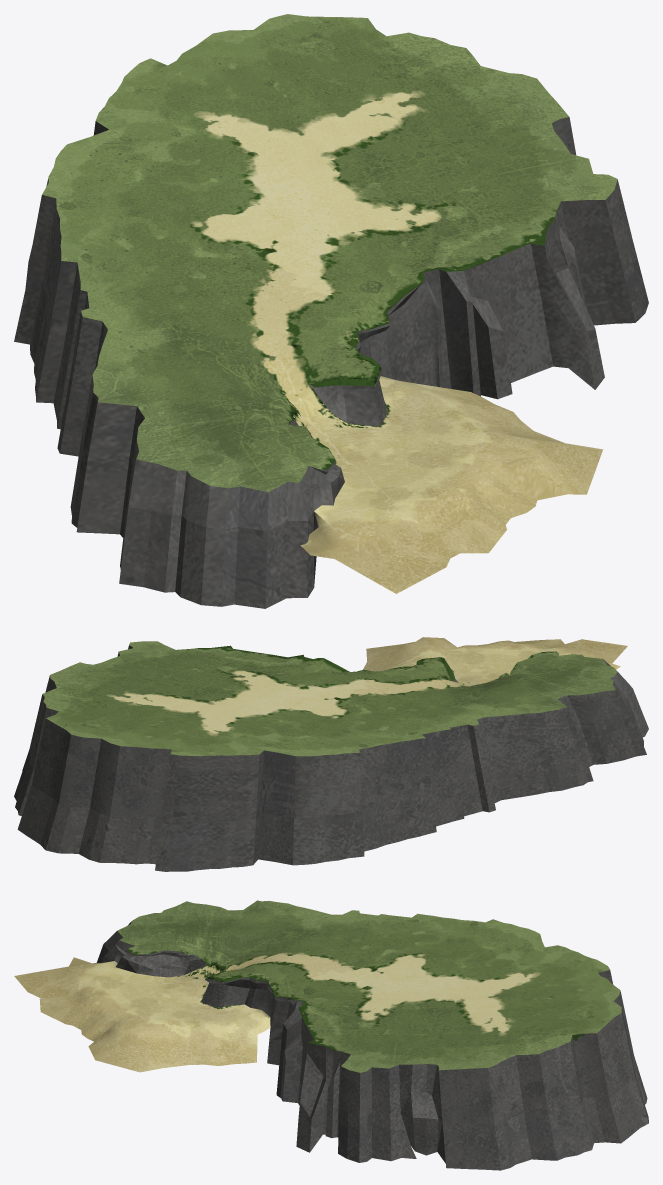
Rendered from island.fbx.
3 views of the same model, one above another, from view 1: azimuth 30°, elevation 25°; view 2: azimuth 150°, elevation 25°; view 3: azimuth 270°, elevation 25° (orthographic). The views are drawn at different scales.
Visible parts, largest first — view 1: pPlane2; view 2: pPlane2; view 3: pPlane2.
Part boxes in pixels (x1=…): pPlane2: x1=14, y1=14, x2=648, y2=608; pPlane2: x1=14, y1=637, x2=648, y2=871; pPlane2: x1=14, y1=900, x2=648, y2=1170.
Size of the model in its own units: 54805 by 14348 by 68602.
